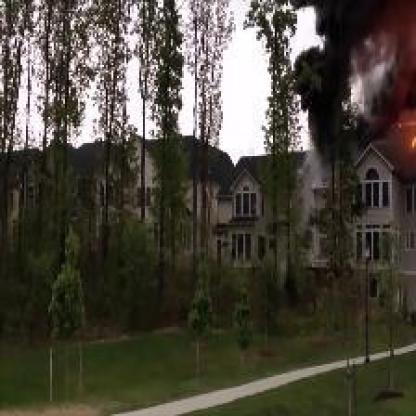smoke: (289, 0, 412, 150)
